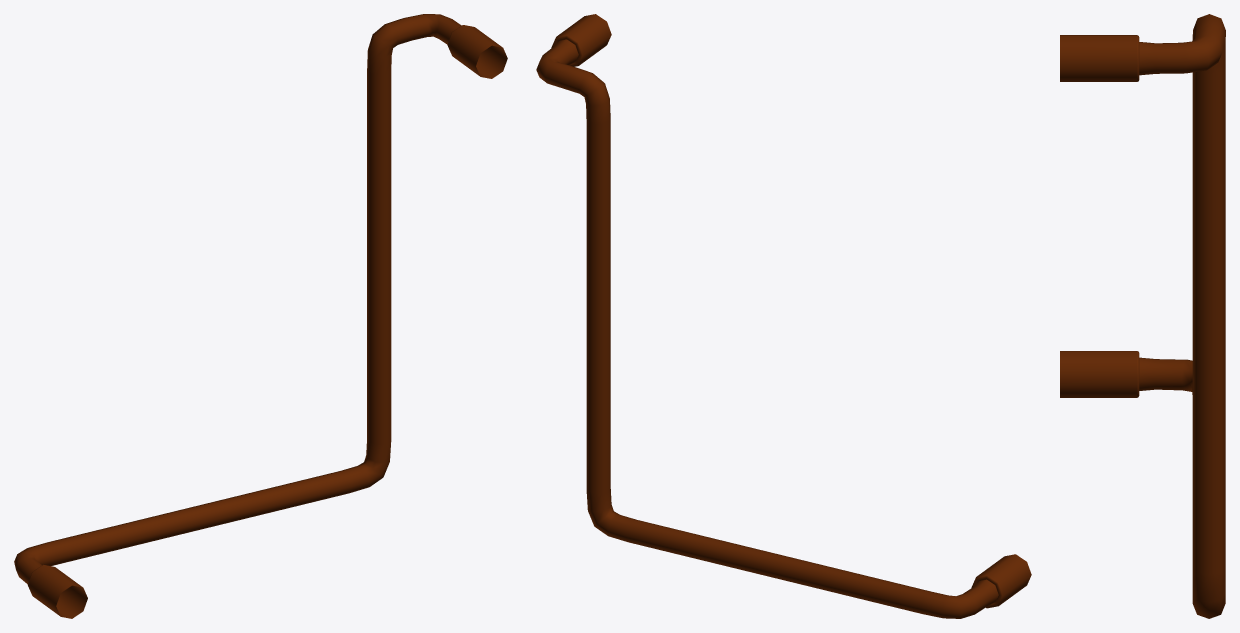
Rendered from Wire_Head_Yellow(oC-Motor_C).obj.
3 views of the same model, side by side, from view 1: azimuth 30°, elevation 25°; view 2: azimuth 150°, elevation 25°; view 3: azimuth 270°, elevation 25° (orthographic). The views are drawn at different scales.
Visible parts, largest first — view 1: Wire_Head_Yellow(oC-Motor_C); view 2: Wire_Head_Yellow(oC-Motor_C); view 3: Wire_Head_Yellow(oC-Motor_C).
Boxes of the visible parts, <box> form: Wire_Head_Yellow(oC-Motor_C): <box>14,14,507,618</box>; Wire_Head_Yellow(oC-Motor_C): <box>536,14,1031,618</box>; Wire_Head_Yellow(oC-Motor_C): <box>1060,14,1225,618</box>.
Bounding box in the file's own units: 0.0848 × 0.0844 × 0.0198.
